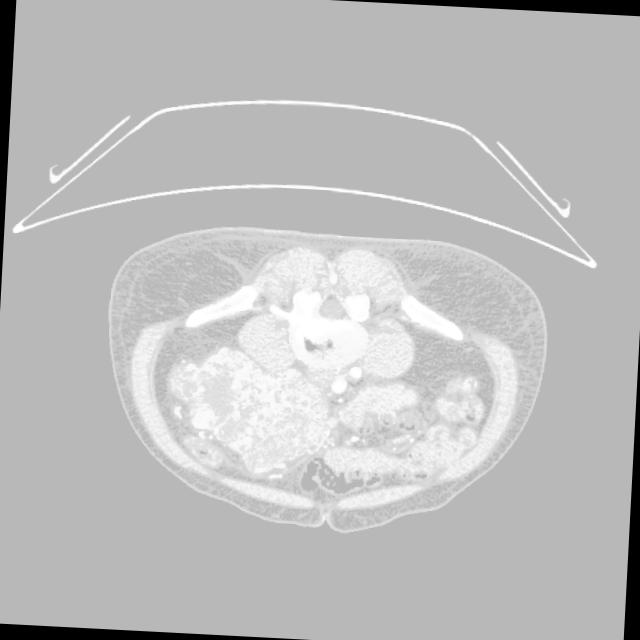TUMOR: (143, 321, 531, 478)
